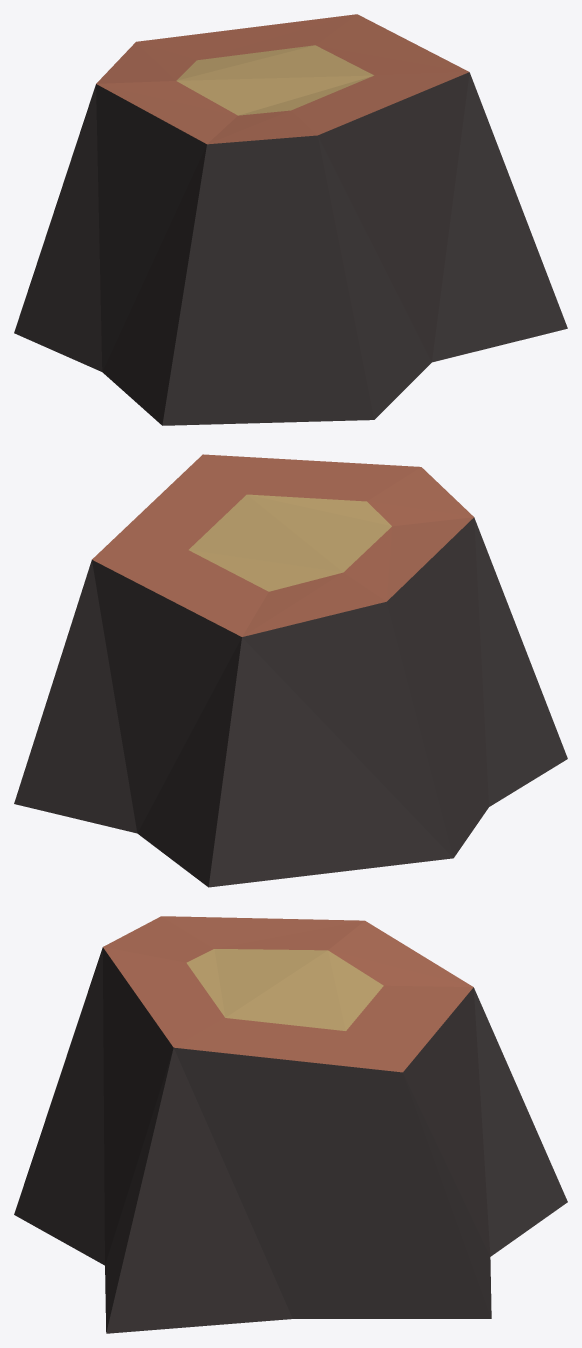
The model's file is TB_Env_Trunk_B.FBX.
3 renders of one model, top to bottom at view 1: azimuth 30°, elevation 25°; view 2: azimuth 150°, elevation 25°; view 3: azimuth 270°, elevation 25°, orthographic. The views are drawn at different scales.
Parts seen in each view (by area): view 1: TB_Env_Trunk_B; view 2: TB_Env_Trunk_B; view 3: TB_Env_Trunk_B.
Boxes of the visible parts, bbox=[...] form: TB_Env_Trunk_B: bbox=[14, 14, 567, 425]; TB_Env_Trunk_B: bbox=[14, 454, 567, 887]; TB_Env_Trunk_B: bbox=[14, 916, 567, 1333].
Bounding box in the file's own units: 0.854 × 0.4971 × 0.9552.
